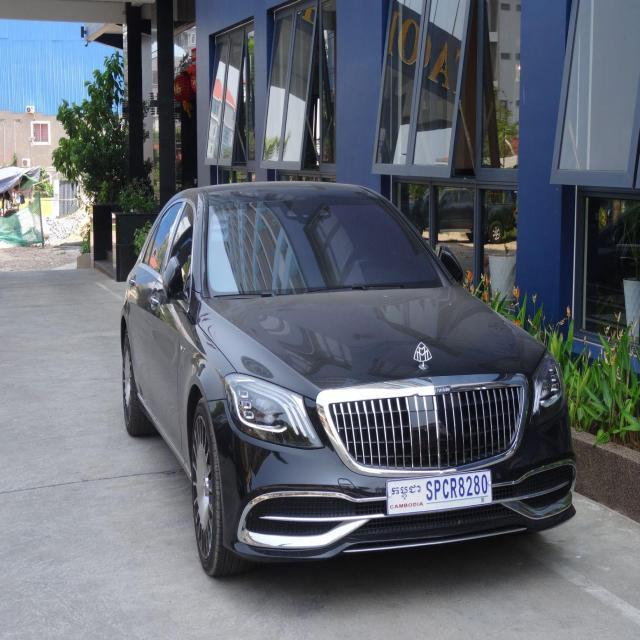Cambodia: (390, 482, 422, 500)
